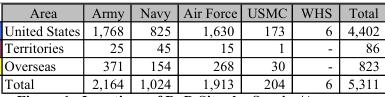table: (3, 4, 378, 91)
table column: (3, 4, 84, 91), (176, 4, 241, 91), (241, 4, 293, 91), (84, 4, 130, 91), (130, 4, 176, 91), (293, 4, 339, 91), (339, 4, 378, 91)
table column header: (3, 4, 378, 20)
table row: (3, 20, 378, 38), (3, 38, 378, 56), (3, 56, 378, 74), (3, 74, 378, 91), (3, 4, 378, 20)
